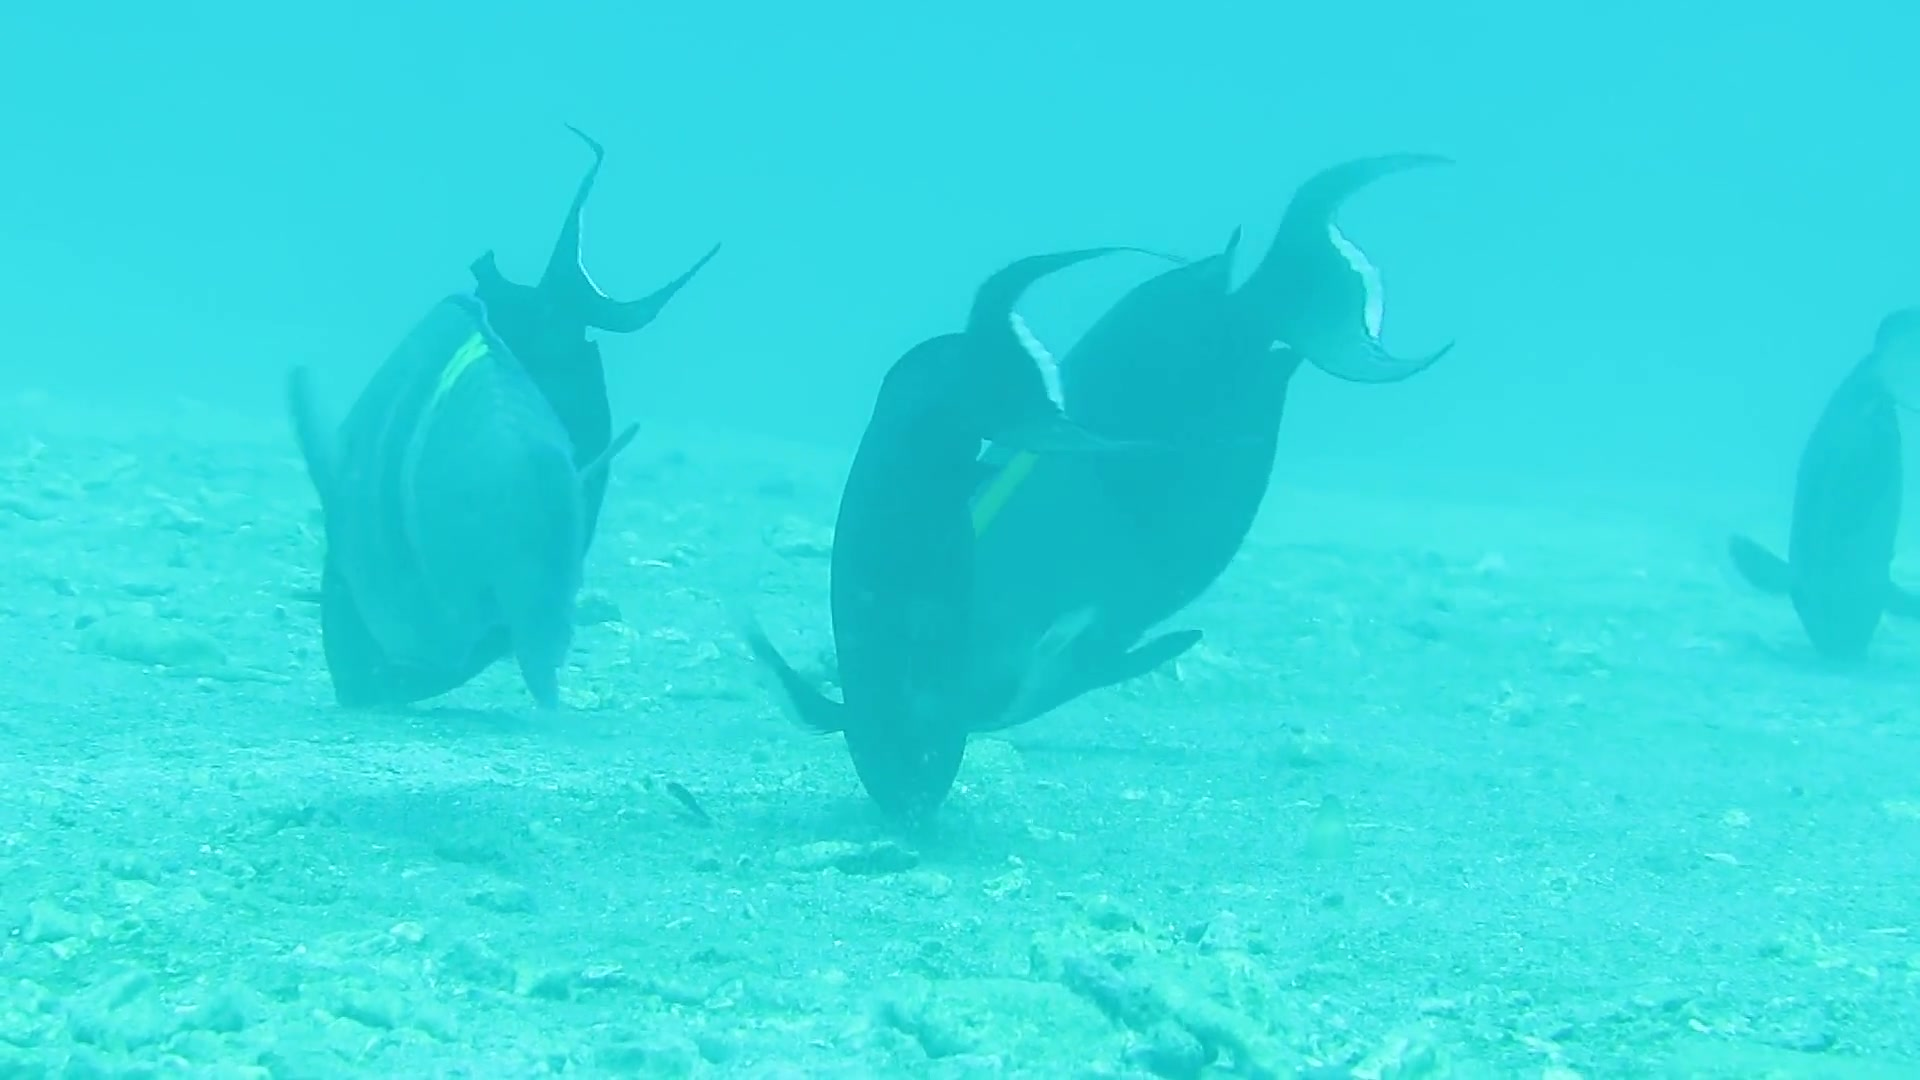Acanthurus olivaceus: (717, 375, 1073, 829), (281, 251, 636, 705), (1068, 198, 1423, 653), (1697, 277, 1920, 702)
